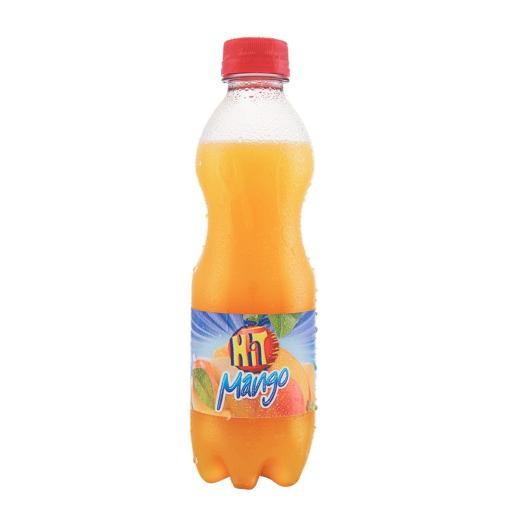JugoHM: (174, 13, 338, 499)
